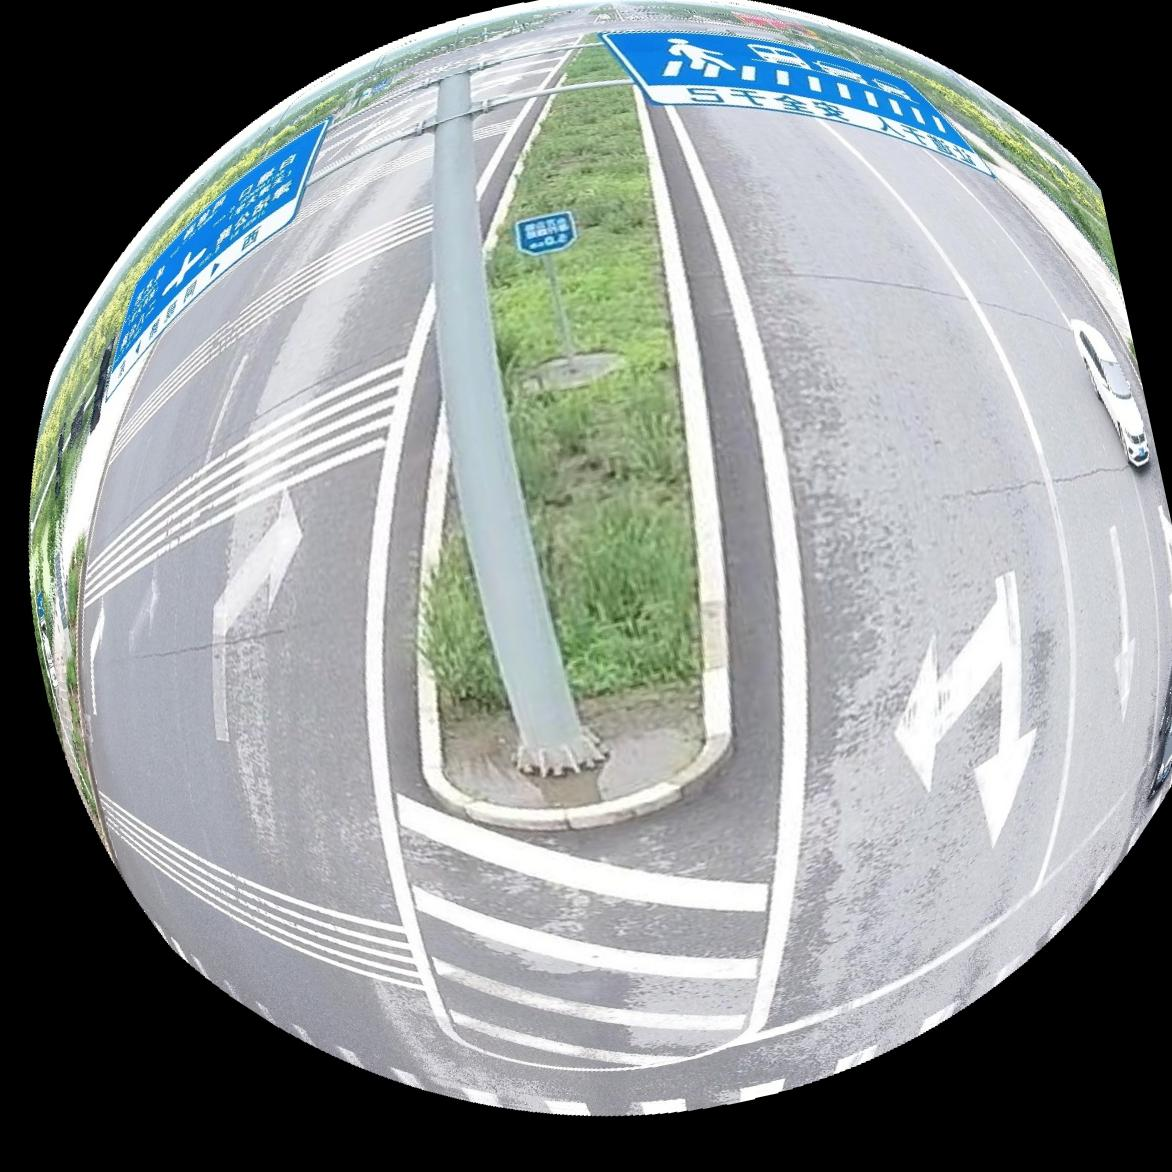cars: (1071, 319, 1152, 467), (1155, 675, 1172, 795)
